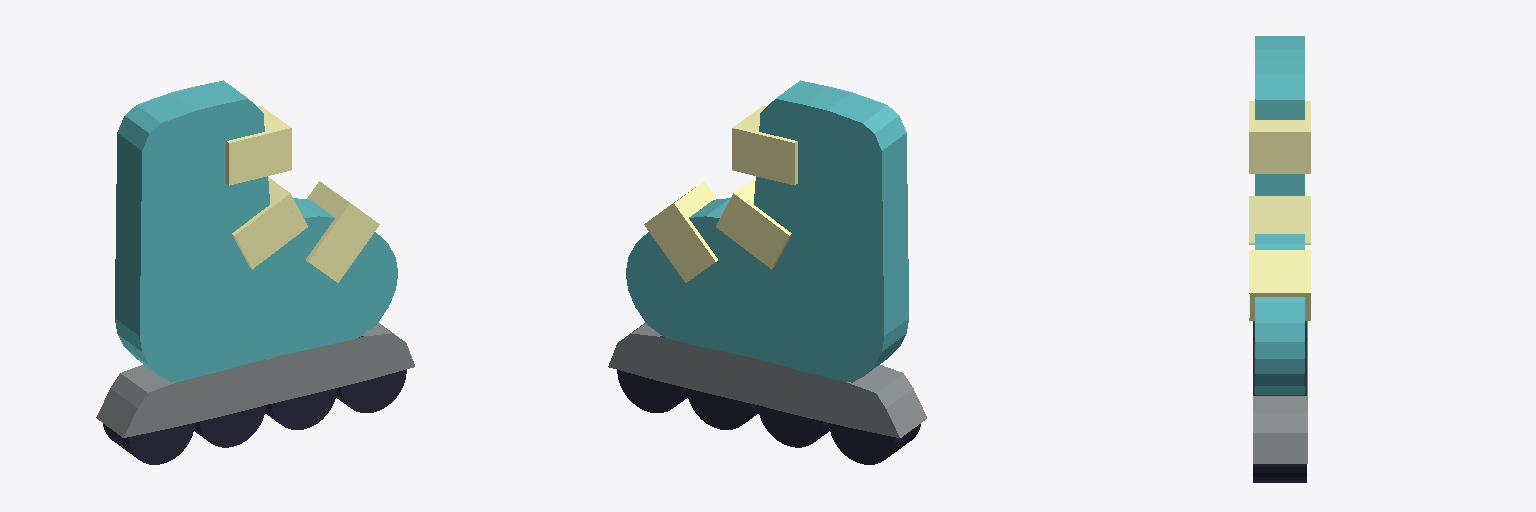
The picture shows the model from 3 angles: view 1: azimuth 30°, elevation 25°; view 2: azimuth 150°, elevation 25°; view 3: azimuth 270°, elevation 25°; orthographic projection.
Visible parts, largest first — view 1: cylinder; view 2: cylinder; view 3: cylinder.
Part boxes in pixels (x1,y1,x2,y2): cylinder: (96, 80, 414, 464); cylinder: (608, 80, 926, 464); cylinder: (1249, 36, 1310, 482).
Bounding box in the file's own units: 2.02 × 2.28 × 0.3659.
1 materials, 1 textured.